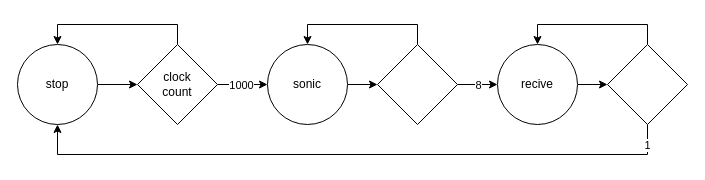
This 705x180 diagram has some shape labels left out. The centre of each missing label's shape, as x and y in pixels:
"sonic arive sig" goes at [647,84].
"sonic_tic count" goes at [417,84].
